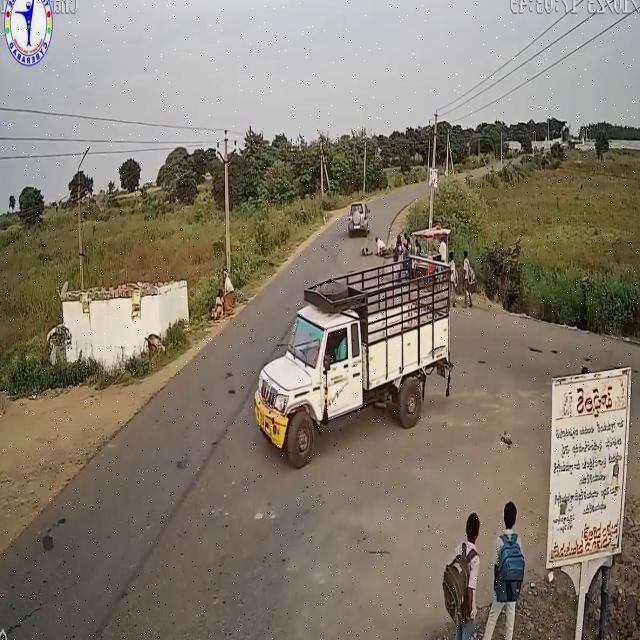accident: (345, 201, 397, 265)
